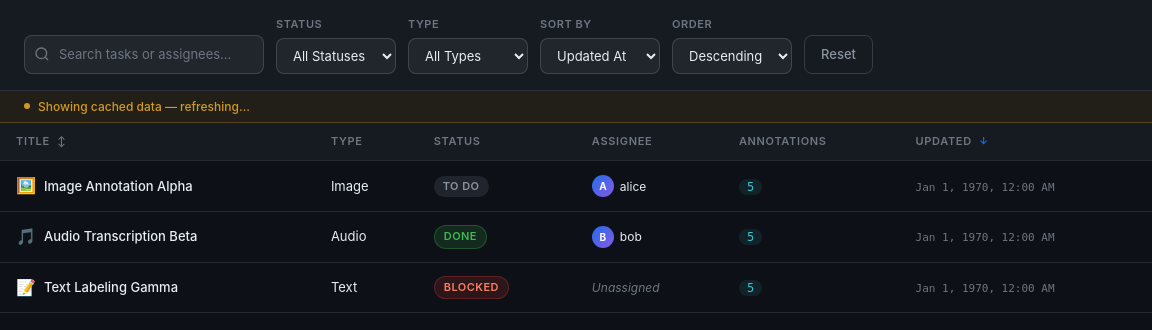
Scenario: TaskTable filtering interactions › filters tasks by status
Select "Done" in the dropdown named "filter by status". click: (336, 56)
box: [276, 38, 396, 74]
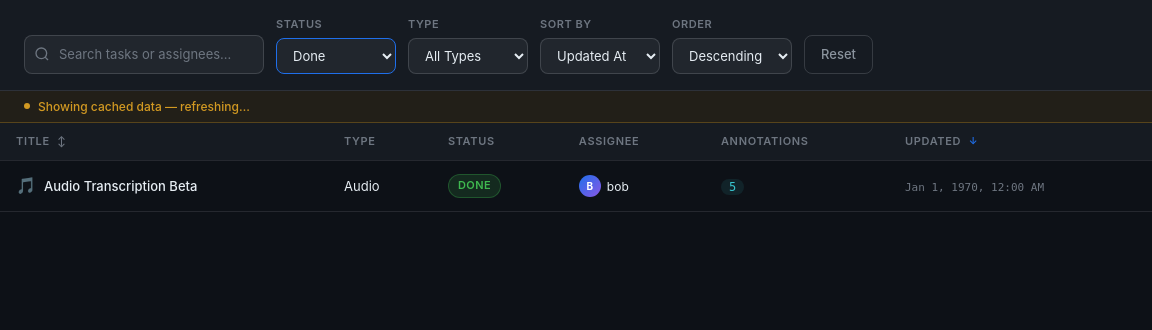
Expected: the text "Audio Transcription Beta" is shown, [44, 176, 197, 197]
Expected: the button "Image Annotation Alpha" is gone
Expected: the button "Text Labeling Gamma" is gone
